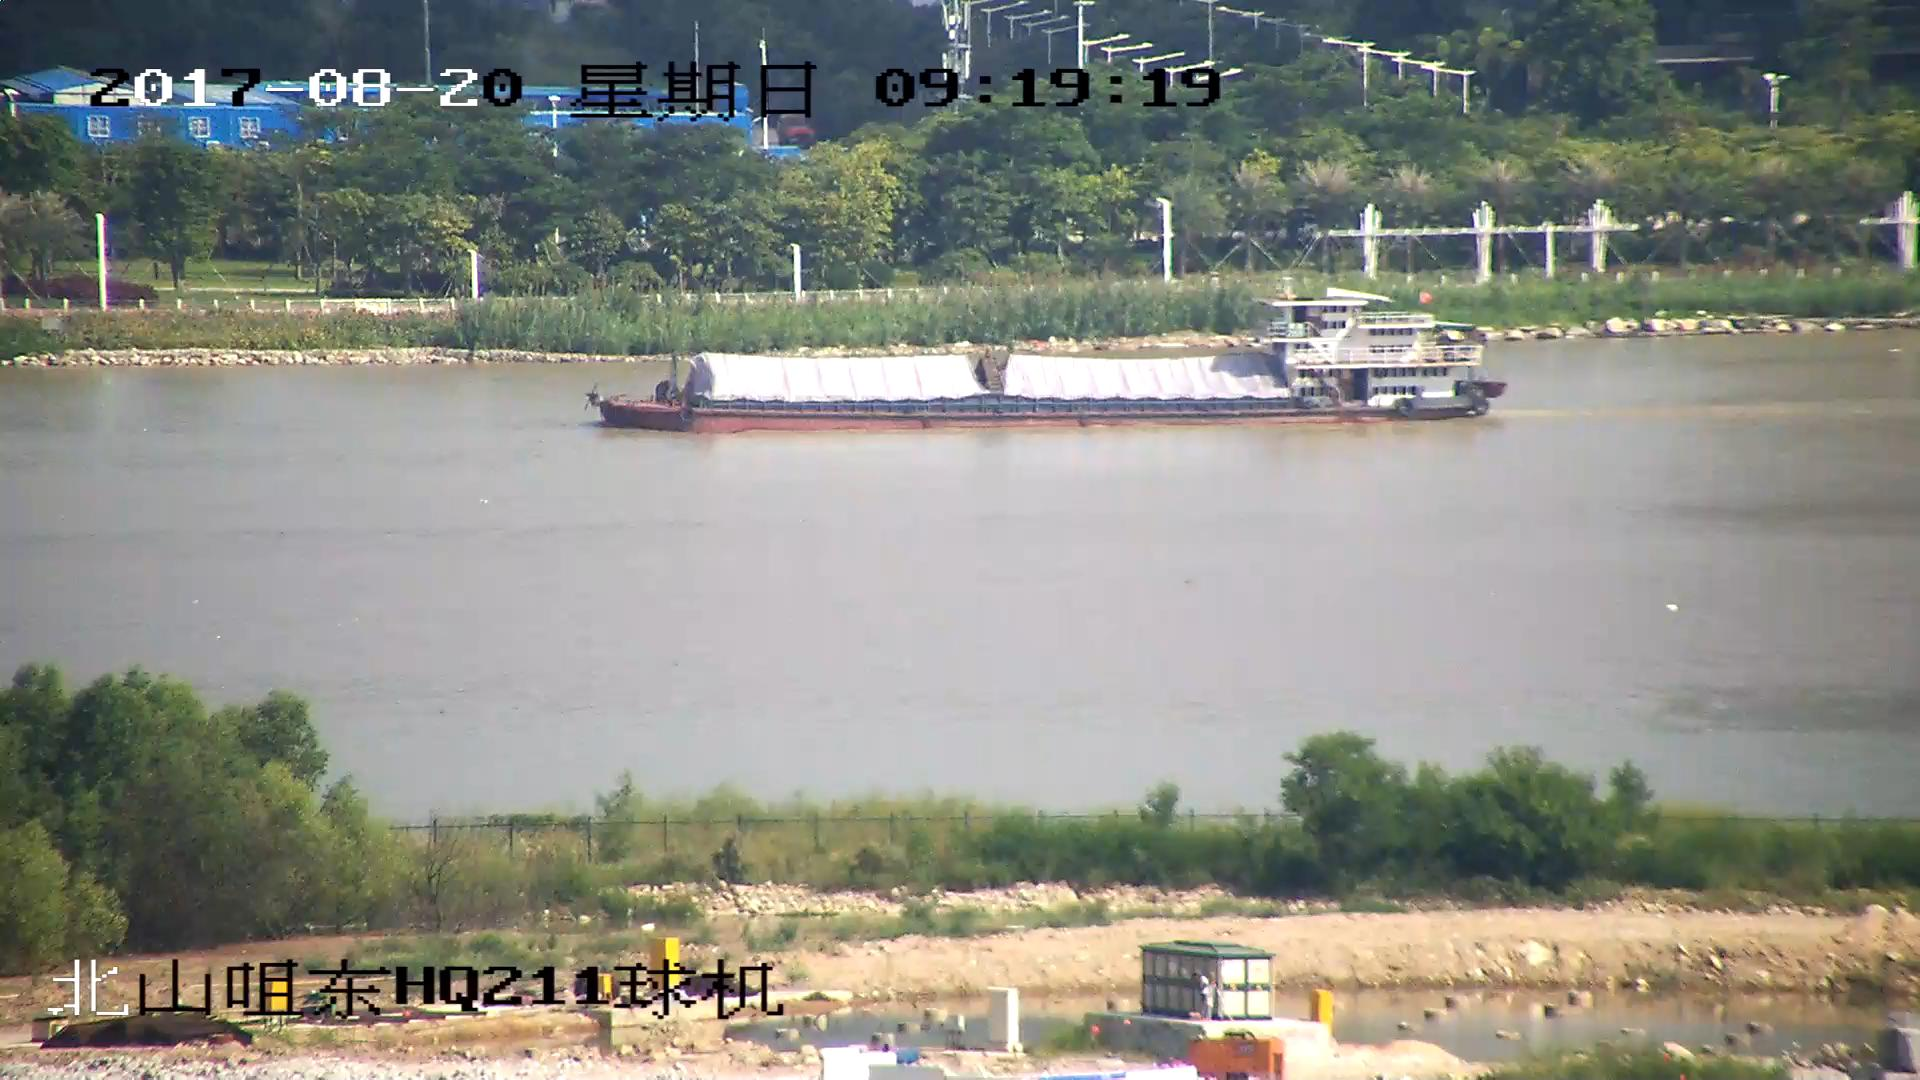general cargo ship: (591, 288, 1505, 434)
